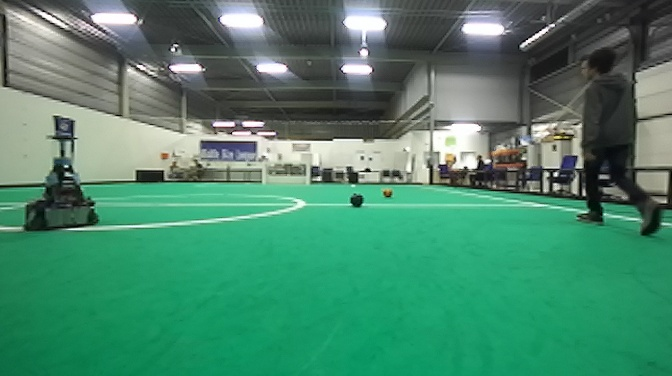ball: (346, 192, 368, 211), (379, 184, 395, 201)
goal: (261, 161, 310, 187)
goalpost: (259, 160, 267, 186), (305, 161, 311, 186)
human: (570, 45, 672, 242)
robot: (22, 113, 101, 230)
